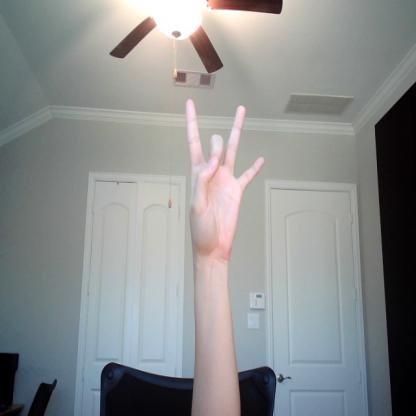eight: (181, 92, 265, 255)
